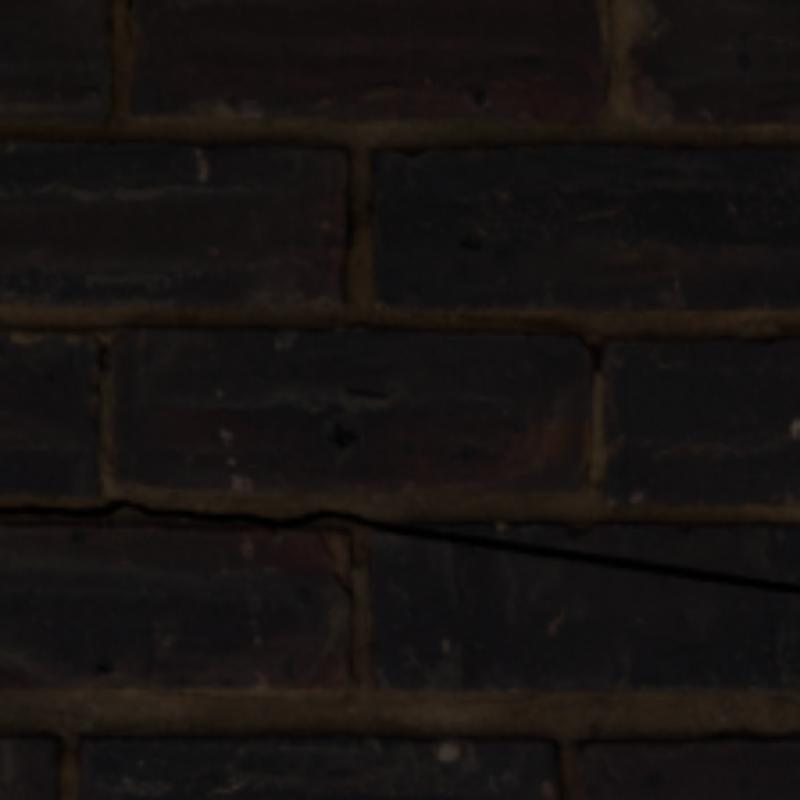pothole: (0, 500, 796, 589)
